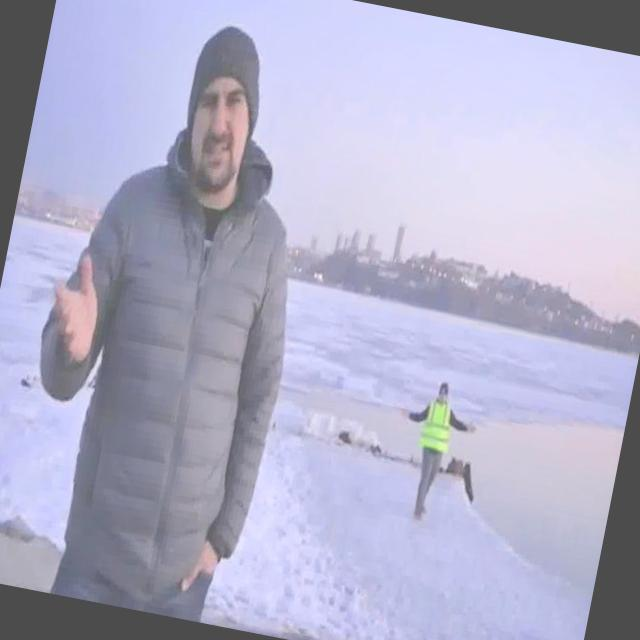vest: (418, 394, 459, 457)
